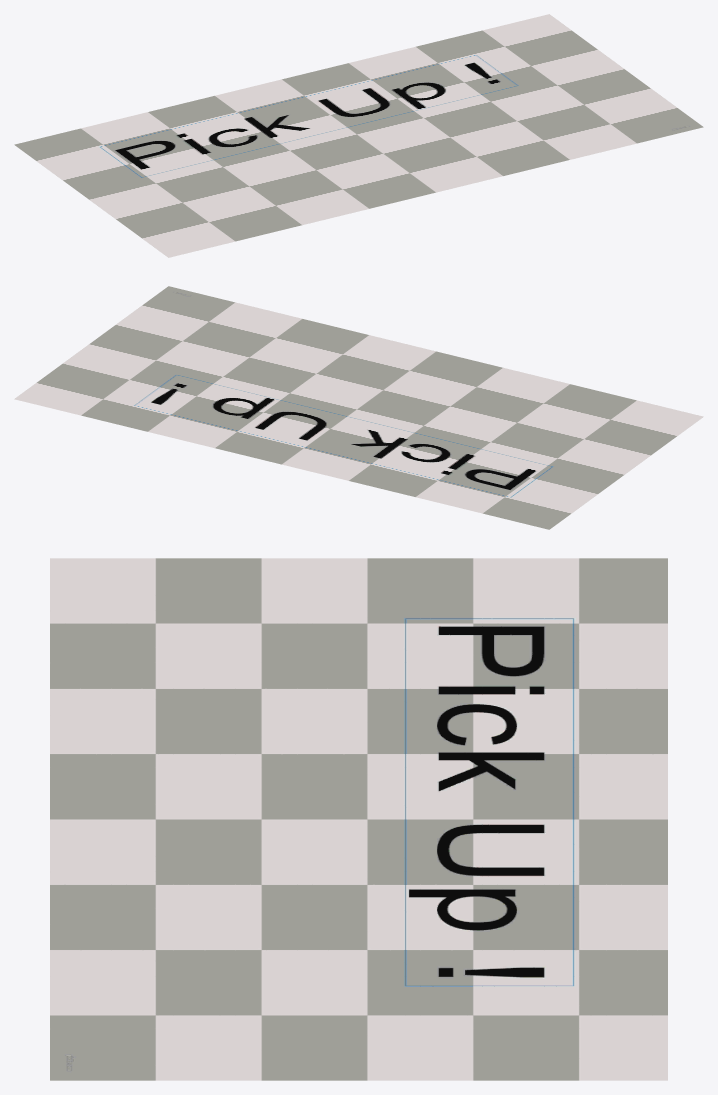
The model's file is 4-pickup_message.obj.
The picture shows the model from 3 angles, top to bottom: view 1: azimuth 30°, elevation 25°; view 2: azimuth 150°, elevation 25°; view 3: azimuth 270°, elevation 25°; orthographic projection. The views are drawn at different scales.
Visible parts, largest first — view 1: 4-Pickup Message; view 2: 4-Pickup Message; view 3: 4-Pickup Message.
Part boxes in pixels (x1=…): 4-Pickup Message: x1=14, y1=14, x2=703, y2=257; 4-Pickup Message: x1=14, y1=286, x2=703, y2=529; 4-Pickup Message: x1=50, y1=558, x2=667, y2=1080.
Bounding box in the file's own units: 2 × 6.04e-07 × 1.
Materials: 1 (1 with a texture image).
